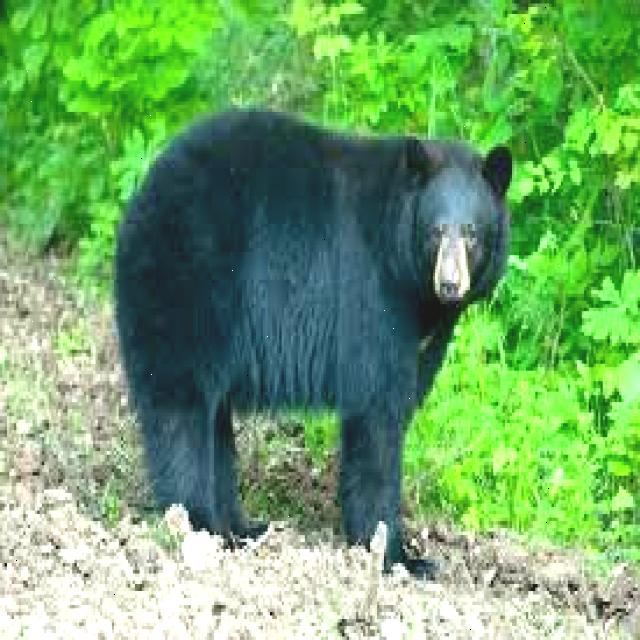bear: (120, 89, 513, 581)
